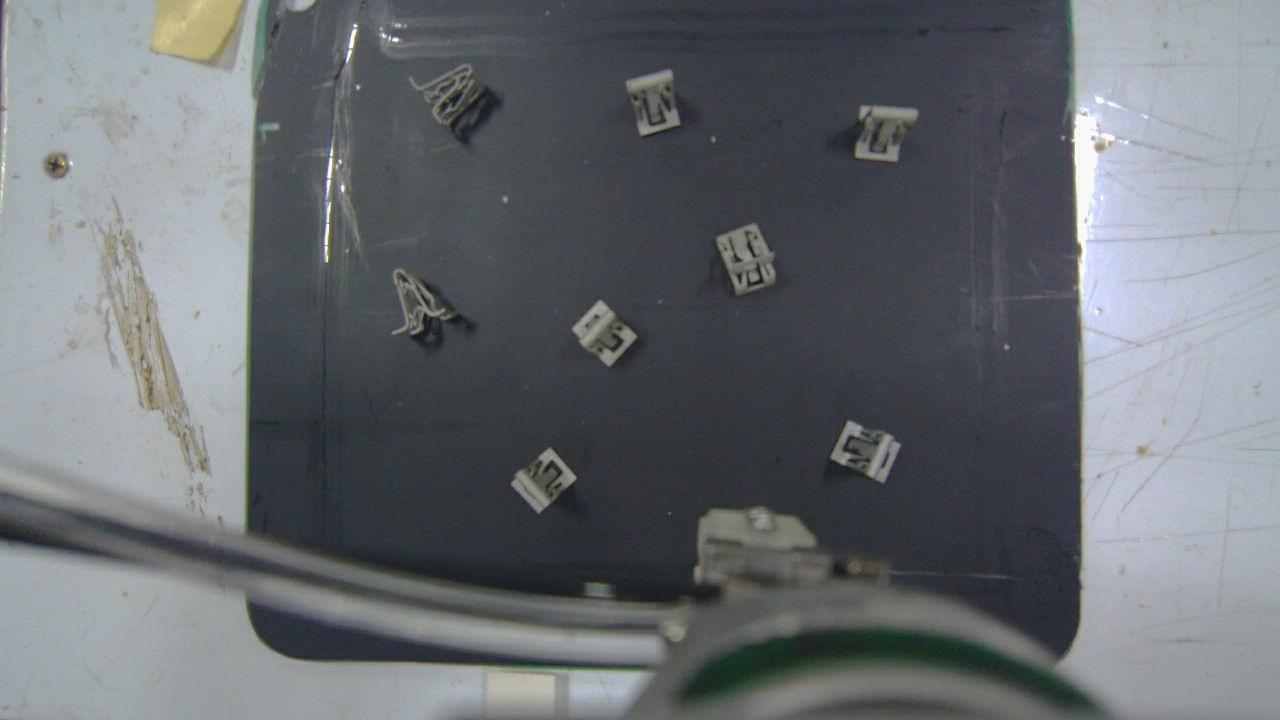ng: (409, 64, 487, 133), (388, 269, 459, 336), (830, 419, 903, 484), (715, 223, 777, 296), (511, 446, 577, 513), (626, 70, 682, 135), (856, 105, 917, 162)
pass: (571, 299, 637, 367)
